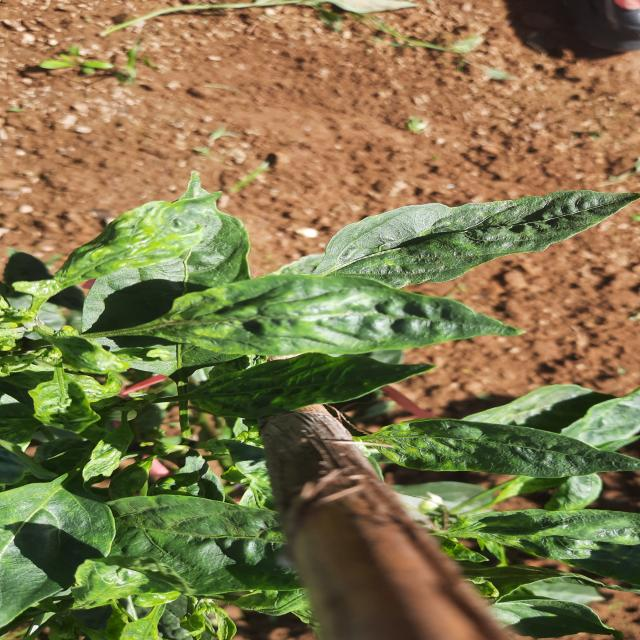thrips: (145, 277, 549, 365), (327, 410, 640, 488)
